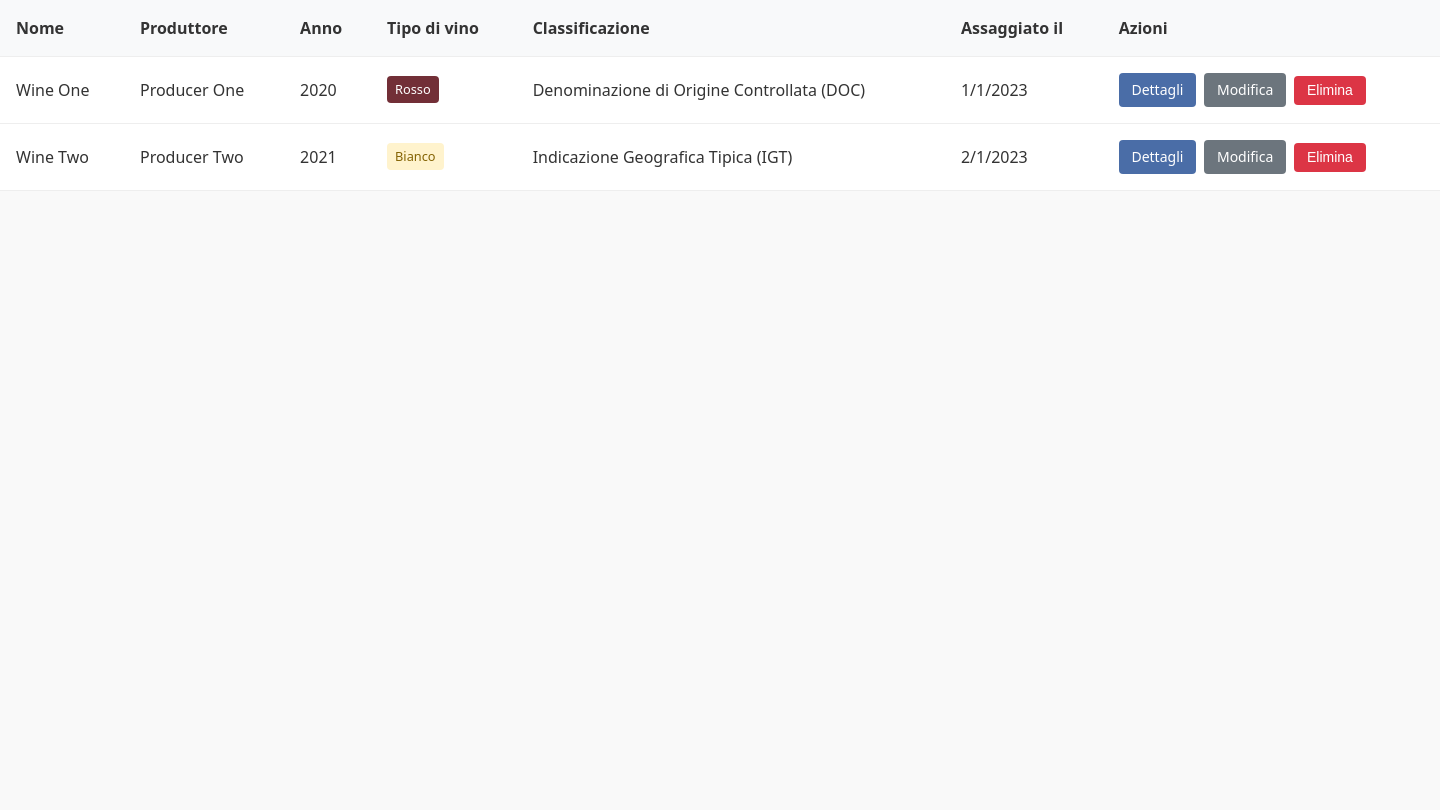
Test: WineGrid.vue › opens the delete confirmation modal when delete is clicked
Click the button with class "btn-danger" in the row of "Wine One": (1330, 90) x1=1294 y1=76 x2=1366 y2=105
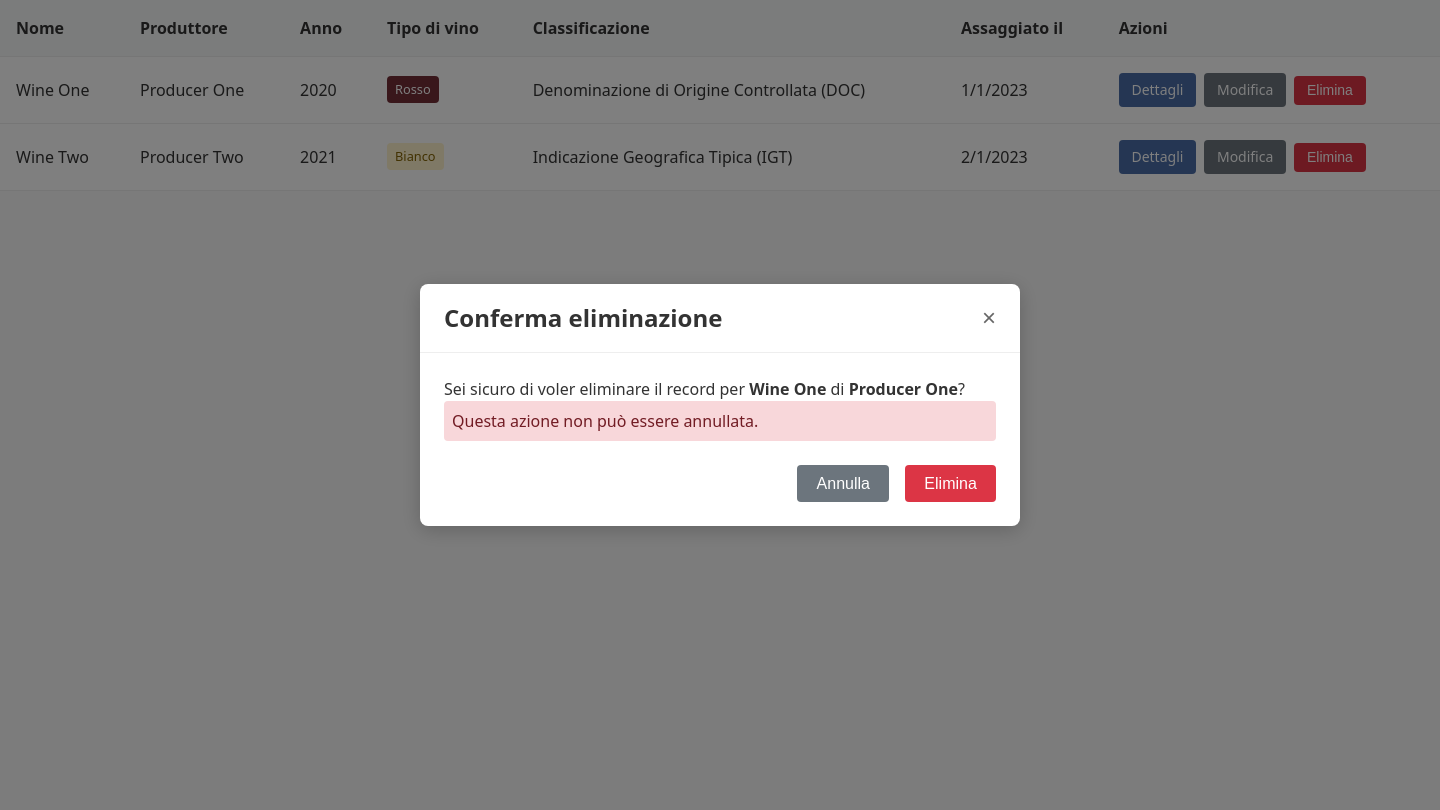
Result: the element that starts with "Conferma eliminazione" is shown
